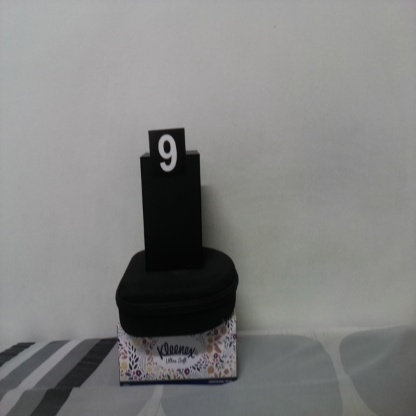id_9: (148, 131, 186, 188)
